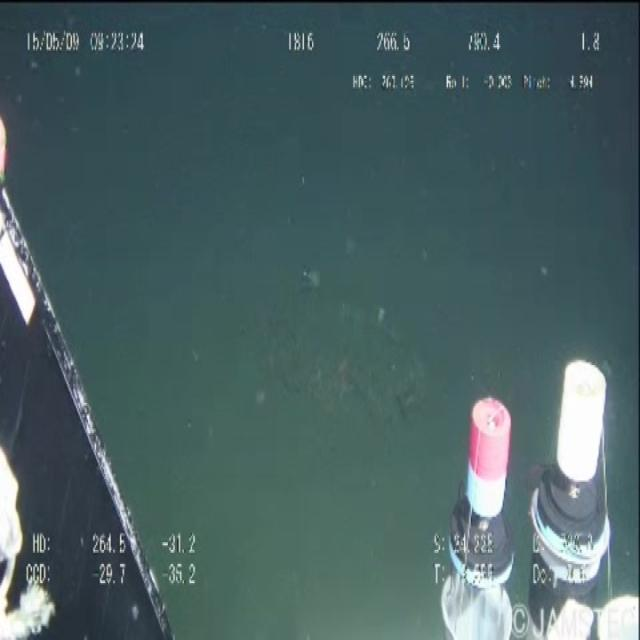Accessories: (357, 295, 438, 439)
